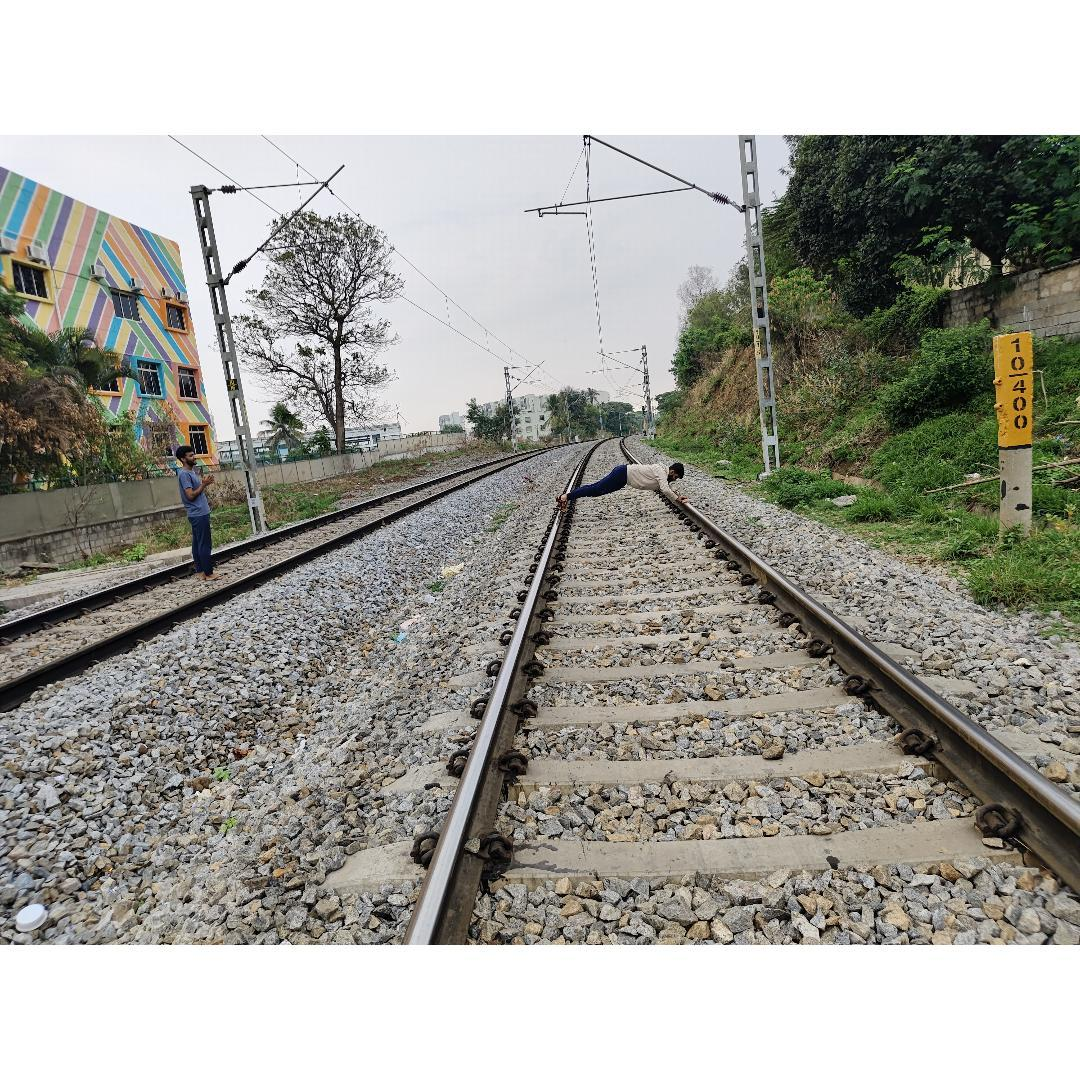sleeping: (556, 461, 688, 509)
standing: (174, 444, 220, 580)
track: (294, 419, 1080, 945), (0, 429, 588, 776)
